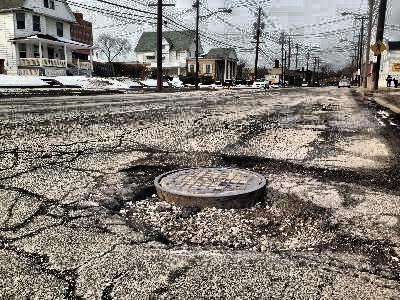pothole: (118, 150, 284, 255)
